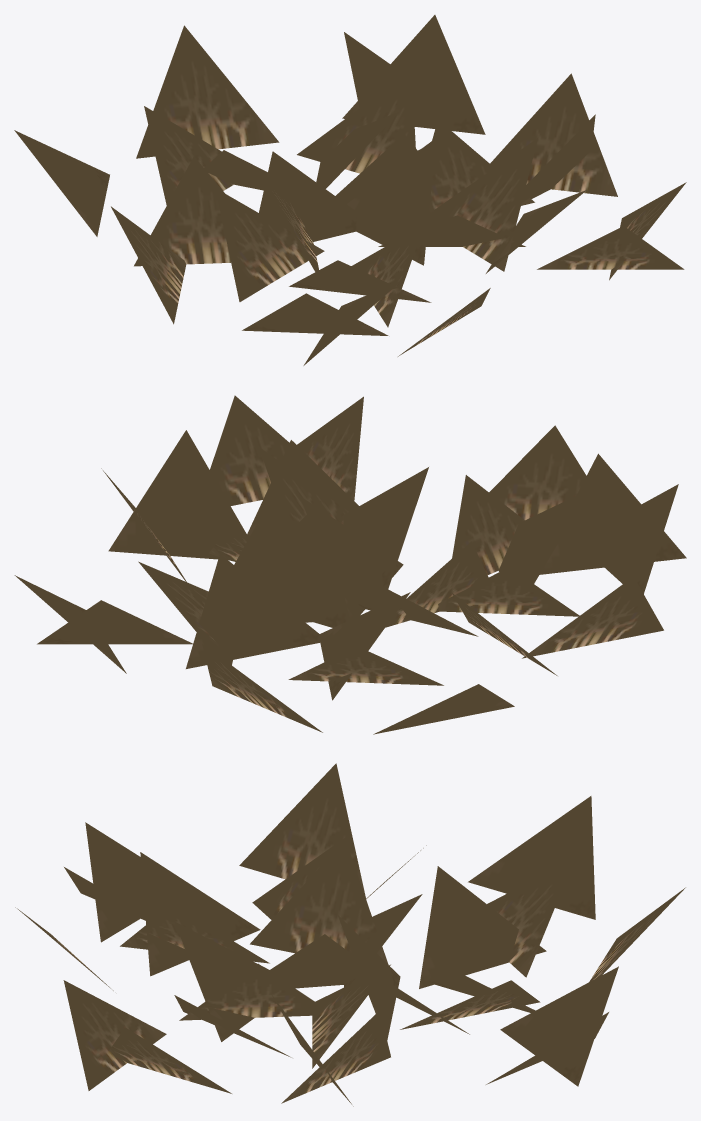
The model's file is dec_dry_grass_02_34646.glb.
3 renders of one model, top to bottom at view 1: azimuth 30°, elevation 25°; view 2: azimuth 150°, elevation 25°; view 3: azimuth 270°, elevation 25°, orthographic. The views are drawn at different scales.
Parts seen in each view (by area): view 1: dry_grass_02_mesh; view 2: dry_grass_02_mesh; view 3: dry_grass_02_mesh.
Boxes of the visible parts, x1,y1,x2,y2 form: dry_grass_02_mesh: (14, 15, 686, 365); dry_grass_02_mesh: (14, 395, 686, 734); dry_grass_02_mesh: (15, 763, 685, 1106).
Bounding box in the file's own units: 1.76 × 0.3226 × 2.
Materials: 1 (1 with a texture image).
